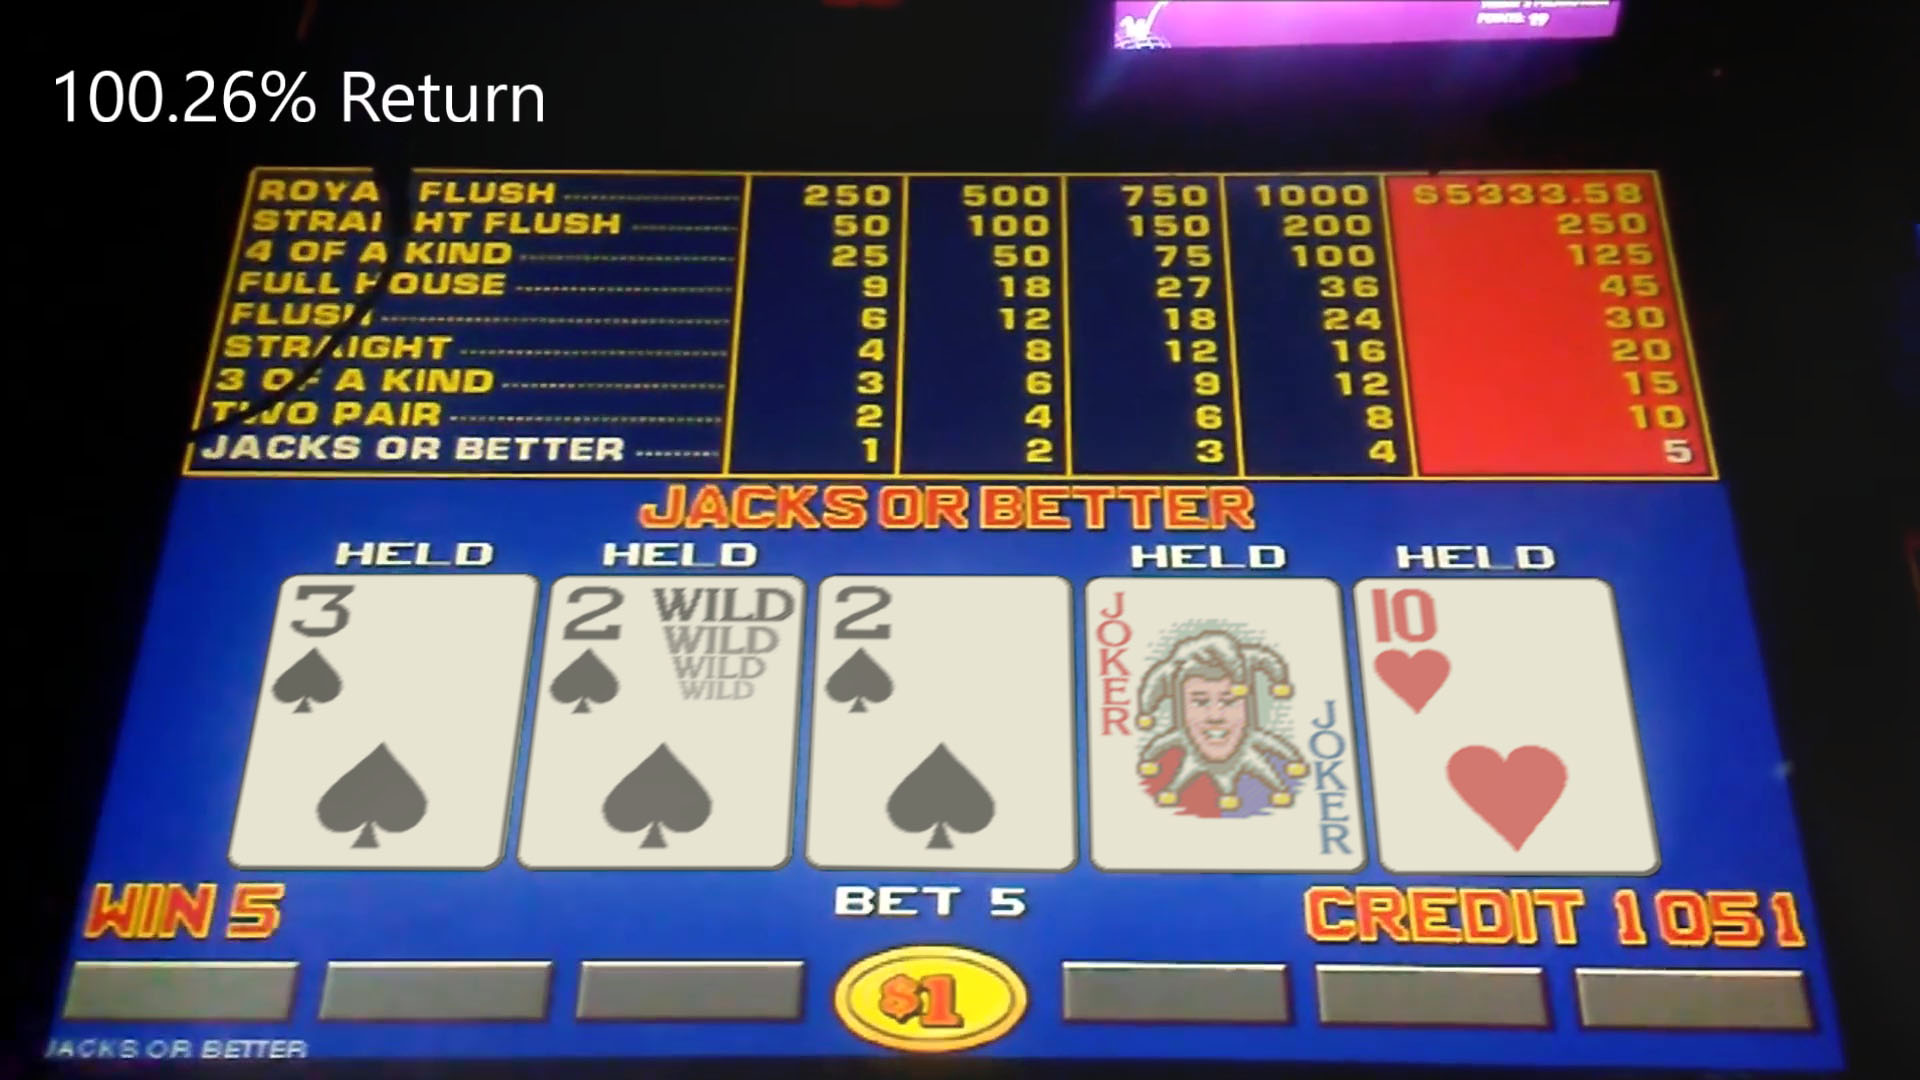HT: (1373, 582, 1625, 872)
S2: (811, 575, 1076, 869)
S2W: (546, 575, 795, 866)
S3: (266, 576, 506, 865)
joker: (1091, 580, 1348, 872)
